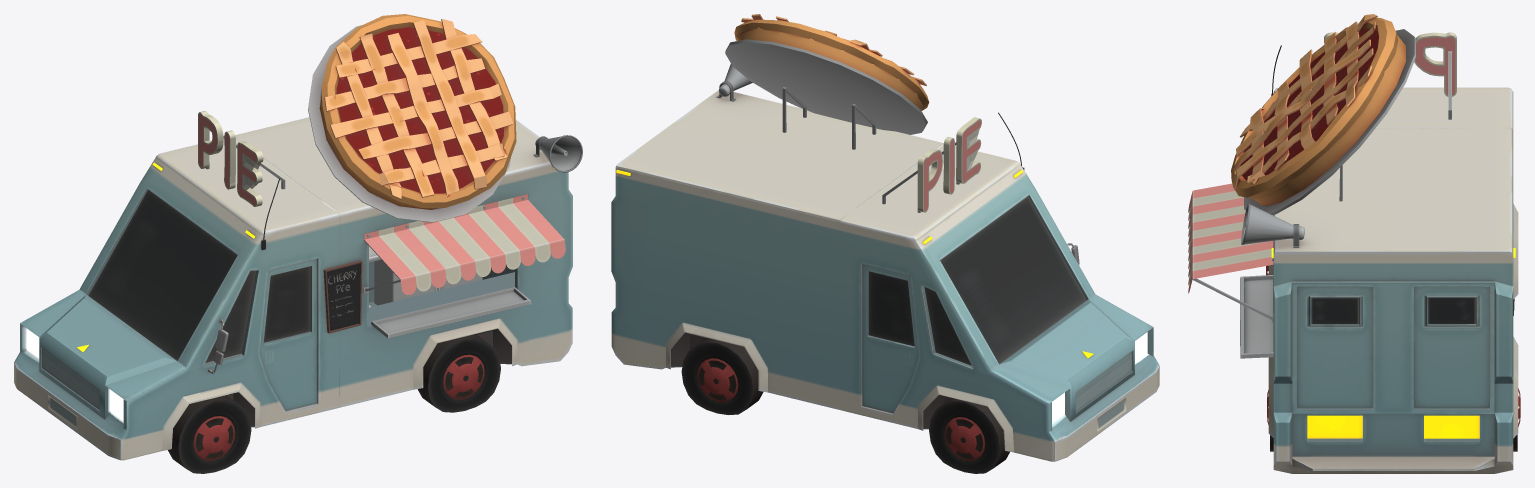
Rendered from all.fbx.
The picture shows the model from 3 angles, left to right: view 1: azimuth 30°, elevation 25°; view 2: azimuth 150°, elevation 25°; view 3: azimuth 270°, elevation 25°; orthographic projection. The views are drawn at different scales.
Visible parts, largest first — view 1: van.001, Cherry.003, van, glass, Plane, wheel3.003, wheel3, Cherry.001, Text, Cube.003, Cube.005, Circle.001; view 2: van, van.001, glass, Cherry.003, wheel3.001, wheel3.002, Text, Cube.001; view 3: van, Cherry.003, Plane, van.001, Cherry.001, Text, Circle.001.
Boxes of the visible parts, x1=… form: van.001: x1=14, y1=138, x2=339, y2=460; Cherry.003: x1=308, y1=14, x2=516, y2=222; van: x1=235, y1=117, x2=572, y2=407; glass: x1=88, y1=189, x2=310, y2=362; Plane: x1=364, y1=194, x2=565, y2=294; wheel3.003: x1=168, y1=395, x2=251, y2=473; wheel3: x1=417, y1=334, x2=500, y2=412; Cherry.001: x1=371, y1=287, x2=531, y2=338; Text: x1=198, y1=111, x2=263, y2=206; Cube.003: x1=323, y1=260, x2=362, y2=333; Cube.005: x1=374, y1=259, x2=482, y2=305; Circle.001: x1=535, y1=136, x2=580, y2=170; van: x1=611, y1=90, x2=943, y2=409; van.001: x1=840, y1=144, x2=1159, y2=461; glass: x1=868, y1=196, x2=1086, y2=365; Cherry.003: x1=725, y1=14, x2=929, y2=134; wheel3.001: x1=681, y1=338, x2=763, y2=414; wheel3.002: x1=929, y1=398, x2=1009, y2=473; Text: x1=917, y1=117, x2=981, y2=212; Cube.001: x1=782, y1=87, x2=876, y2=149; van: x1=1268, y1=128, x2=1518, y2=473; Cherry.003: x1=1231, y1=14, x2=1415, y2=214; Plane: x1=1188, y1=183, x2=1273, y2=293; van.001: x1=1268, y1=87, x2=1518, y2=299; Cherry.001: x1=1240, y1=275, x2=1273, y2=358; Text: x1=1324, y1=32, x2=1456, y2=96; Circle.001: x1=1243, y1=204, x2=1304, y2=244.
Bounding box in the file's own units: 323 × 236 × 178.
